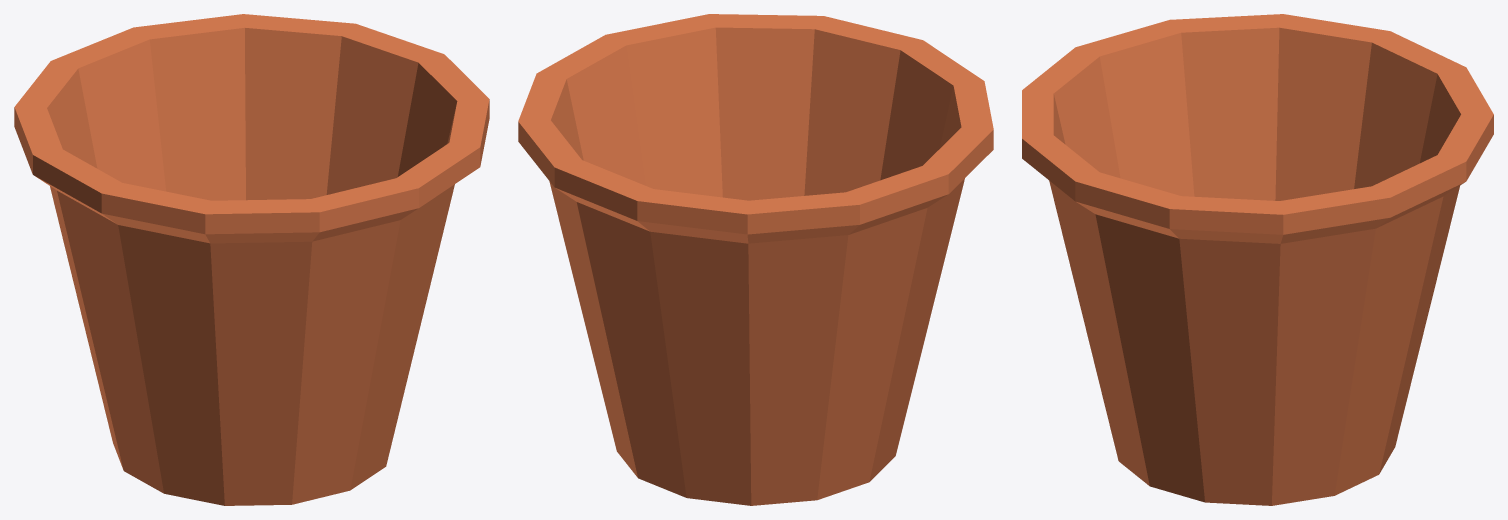
The model's file is Pot.fbx.
3 views of the same model, side by side, from view 1: azimuth 30°, elevation 25°; view 2: azimuth 150°, elevation 25°; view 3: azimuth 270°, elevation 25° (orthographic).
Visible parts, largest first — view 1: Cylinder.001; view 2: Cylinder.001; view 3: Cylinder.001.
Boxes of the visible parts, left/top/right/bottom form: Cylinder.001: left=14, top=14, right=489, bottom=505; Cylinder.001: left=518, top=14, right=993, bottom=505; Cylinder.001: left=1022, top=14, right=1493, bottom=505.
Size of the model in its own units: 278 by 215 by 276.
